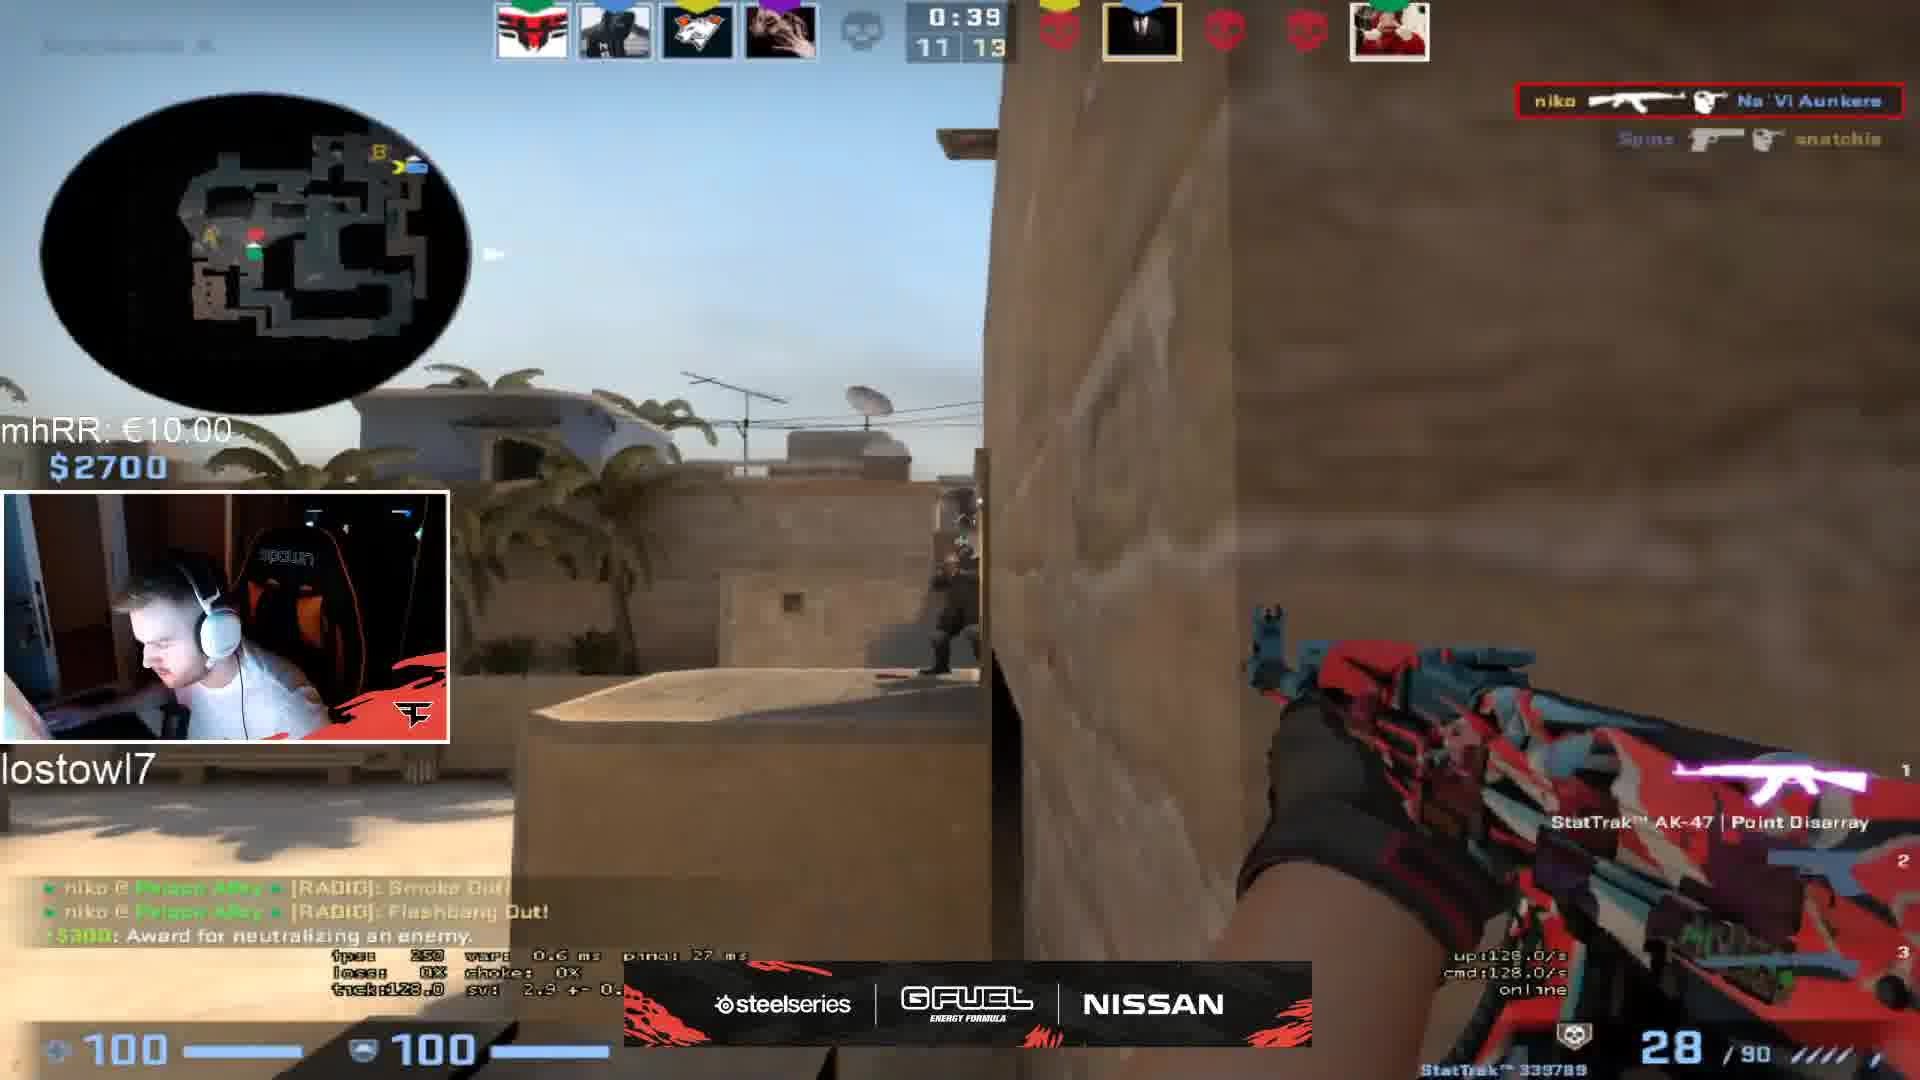enemy: (913, 531, 998, 682)
